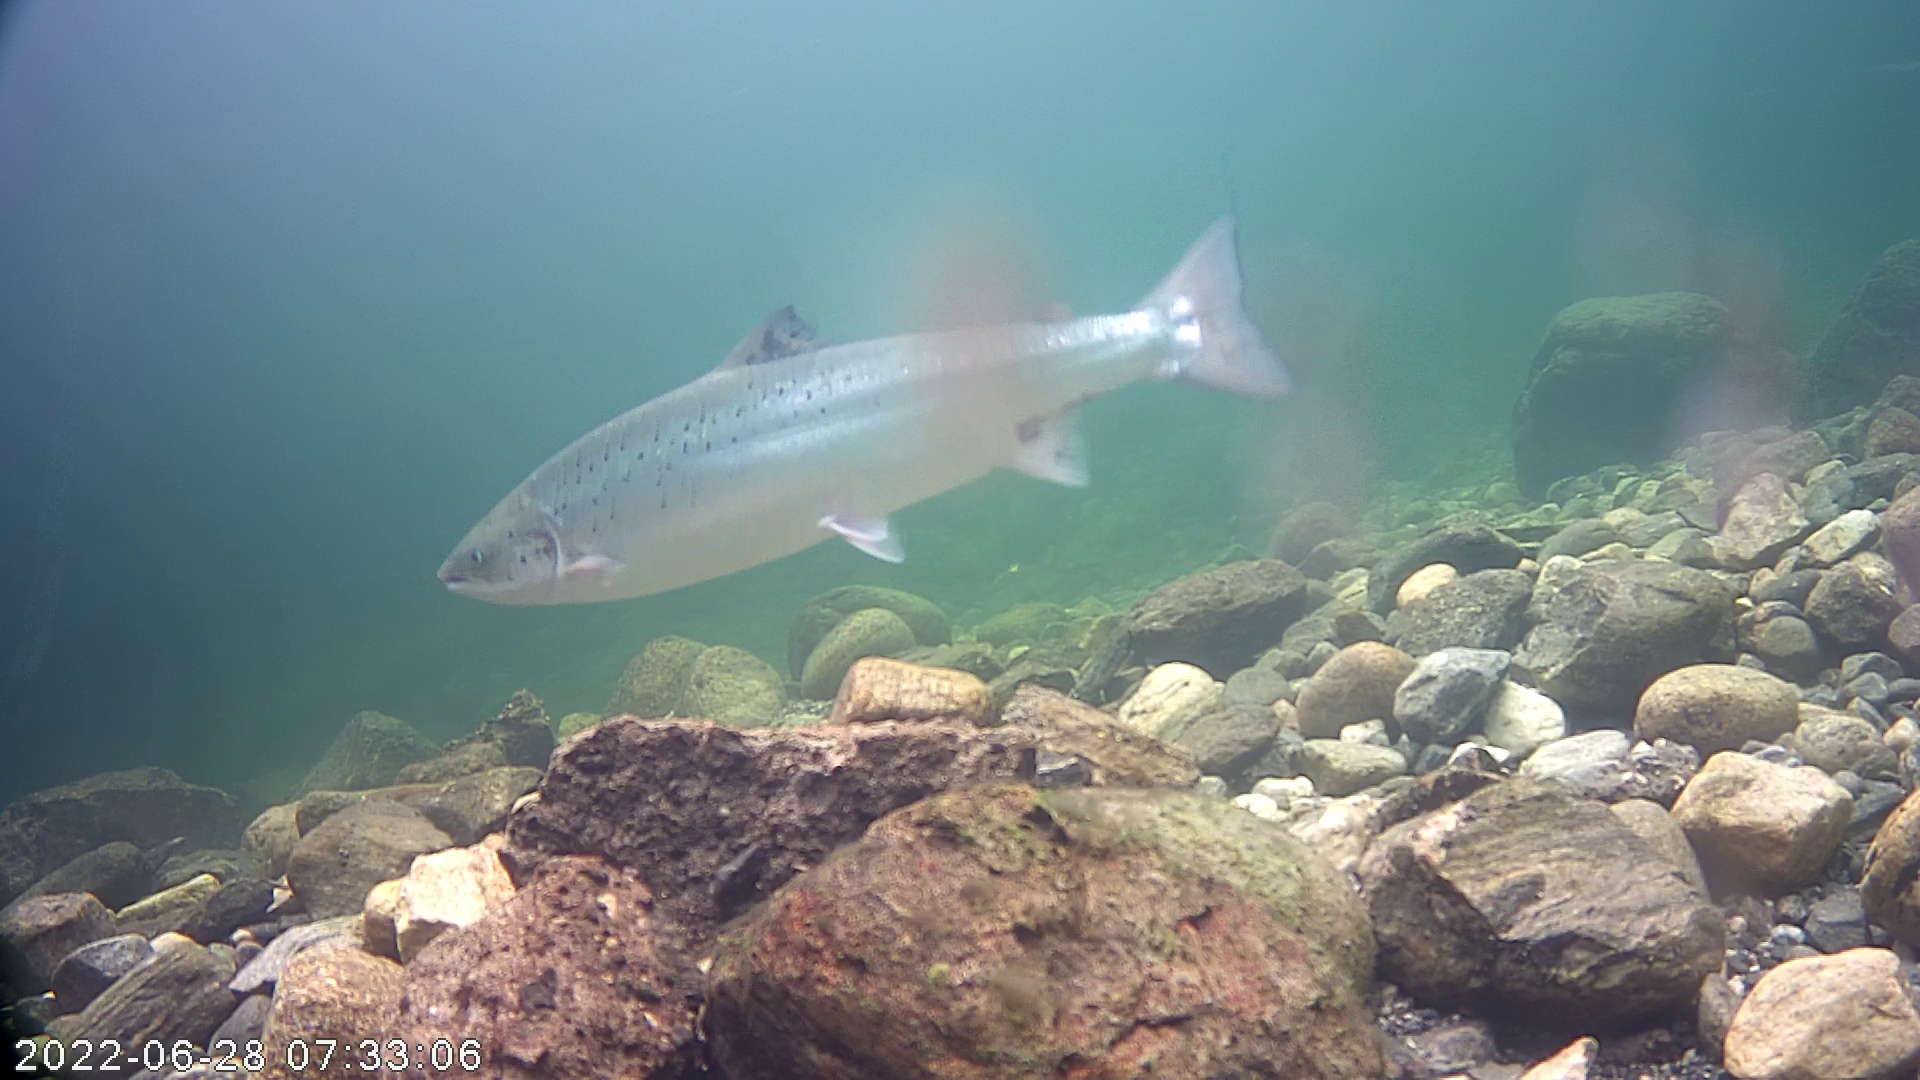salmon: (427, 150, 1323, 633)
